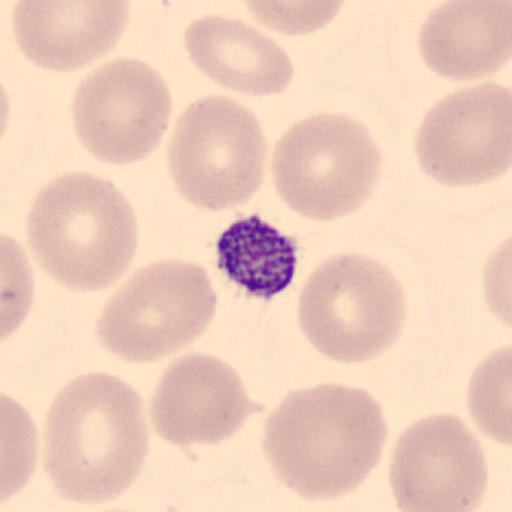Platelet: (214, 211, 302, 302)
RBC: (260, 382, 390, 504), (42, 369, 150, 507), (24, 168, 141, 295), (94, 256, 220, 365), (269, 110, 384, 224), (295, 250, 409, 364), (164, 92, 268, 213), (69, 55, 174, 166), (412, 82, 512, 189), (388, 411, 490, 511), (149, 351, 253, 449), (182, 13, 296, 97), (11, 1, 130, 74), (416, 0, 511, 82), (466, 342, 512, 448), (238, 0, 348, 38), (2, 392, 38, 506), (2, 230, 36, 343), (480, 234, 512, 332), (1, 69, 12, 151)
